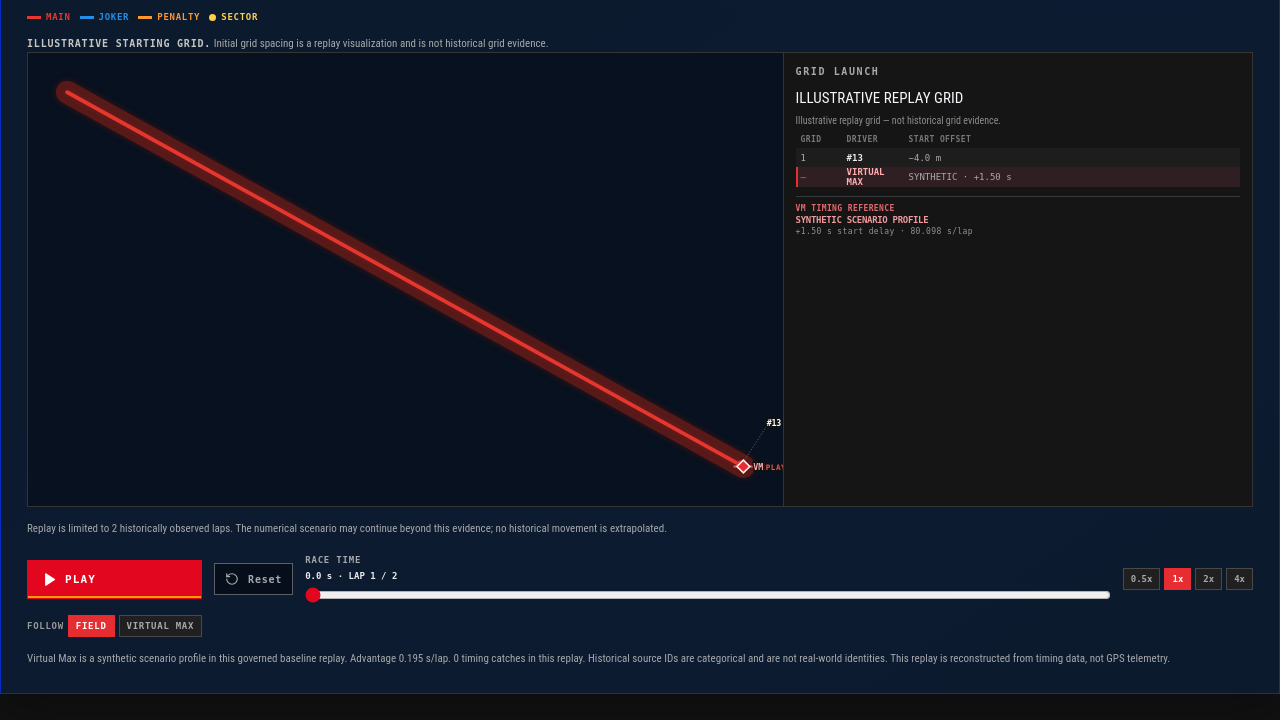
TrackReplay › renders observed markers, VM and the non-GPS methodology from compact API data
(page scrolled)
Expected: the picture is shown, [28,53,783,506]
Expected: the text "SYNTHETIC SCENARIO PROFILE" is shown, [796,215,928,225]
Click the button "PLAY". click: (115, 579)
box: [27,560,202,598]
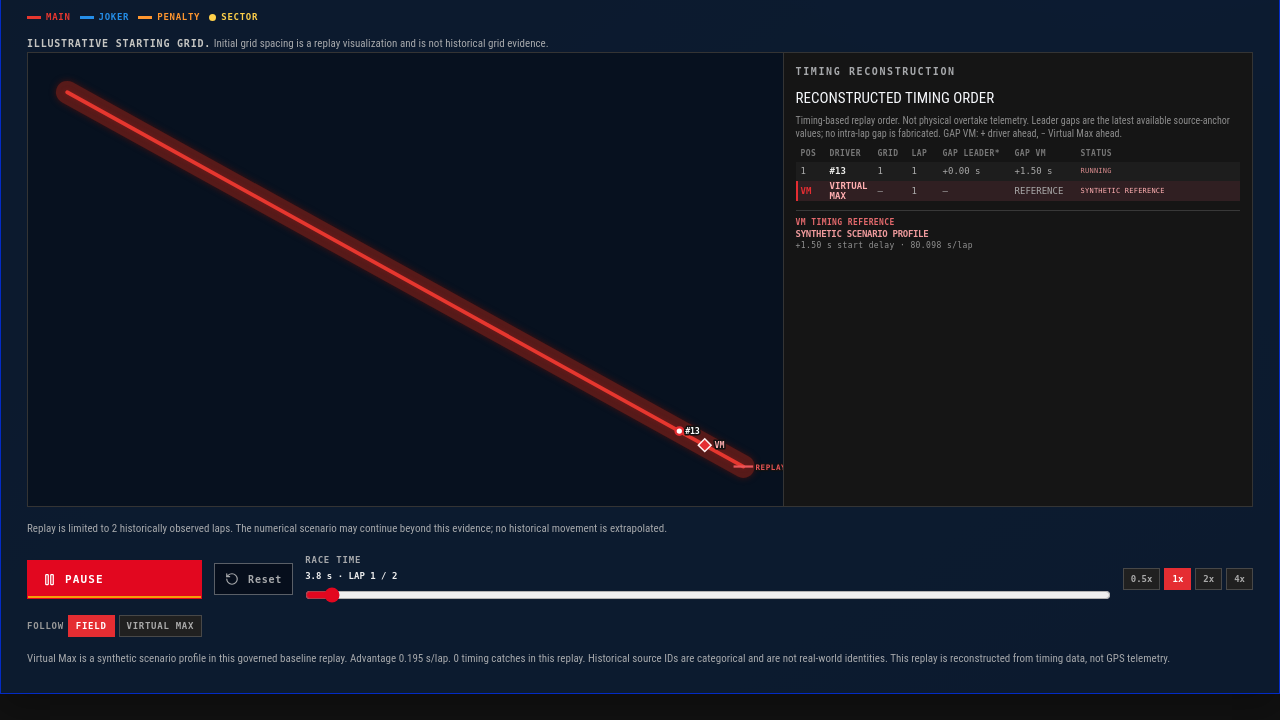
Expected: the button "PAUSE" is shown, [27,560,202,598]
